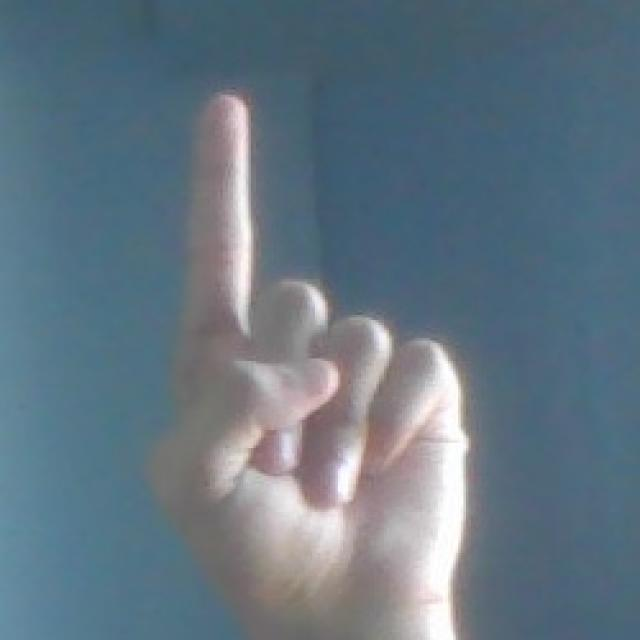Numeric-1: (147, 93, 463, 629)
